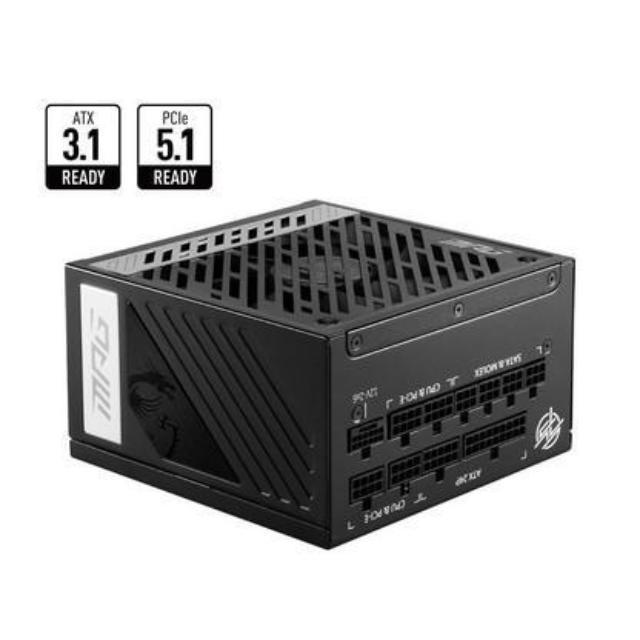PSU: (52, 182, 586, 560)
